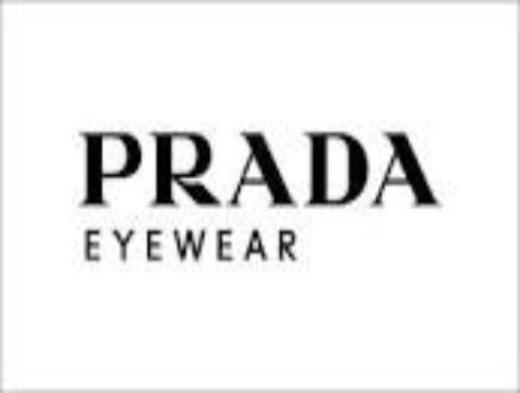PRADA: (71, 117, 449, 220)
